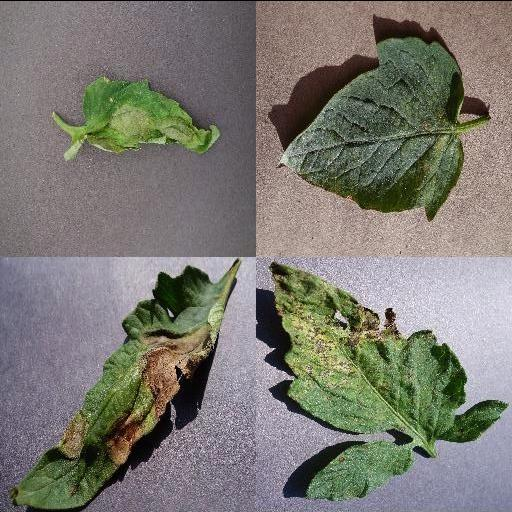Late Blight: (7, 260, 243, 508), (82, 75, 224, 155)
Septoria: (269, 260, 509, 444)
Spider Mites: (277, 35, 467, 221)
